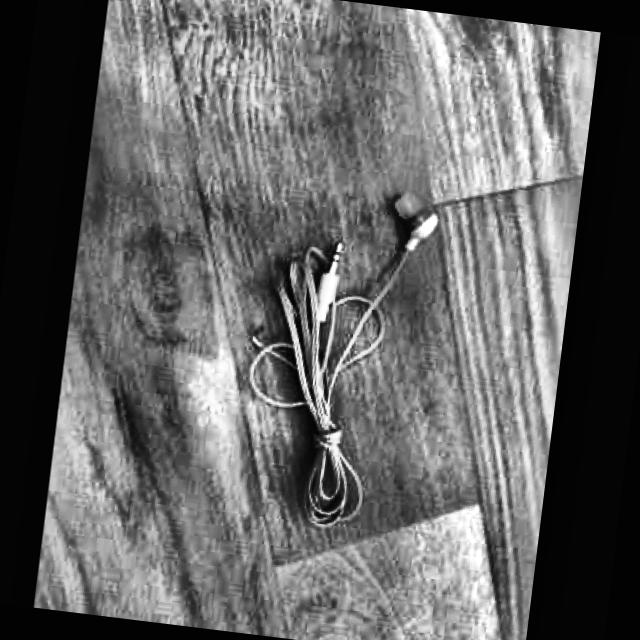Cable: (225, 171, 440, 535)
